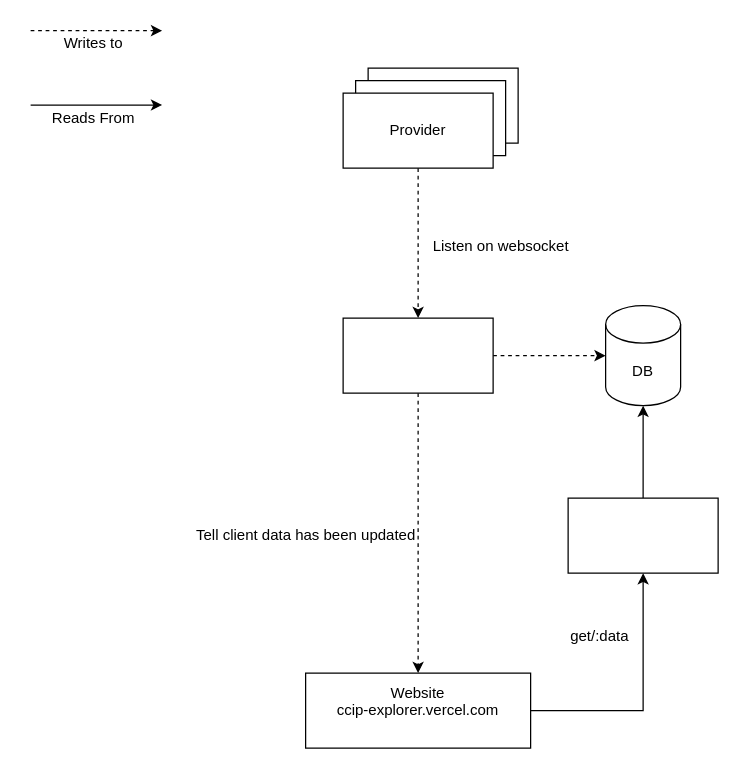
The diagram is 740 pixels wide and 770 high, and some of its shapes have lost their labels. The shapes that lost their labels are listed below. From the top down, each one's centre as x and y in pixels, then its label:
(x=417, y=355): Listener
(x=642, y=535): Next.JS
